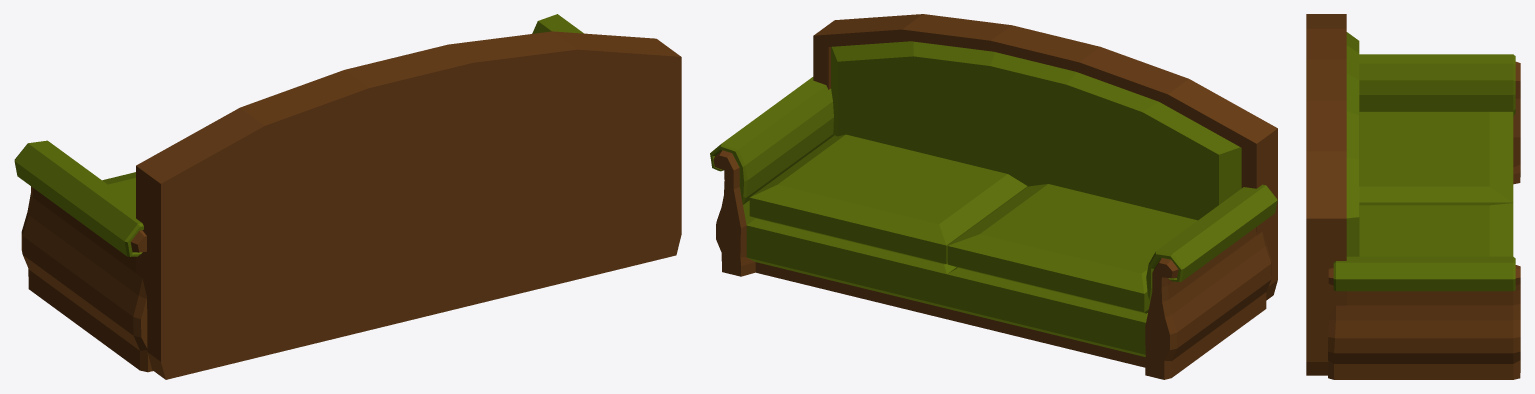
The model's file is castle_town_interior_couch.fbx.
3 renders of one model, left to right at view 1: azimuth 30°, elevation 25°; view 2: azimuth 150°, elevation 25°; view 3: azimuth 270°, elevation 25°, orthographic. The views are drawn at different scales.
Parts seen in each view (by area): view 1: couch; view 2: couch; view 3: couch.
Part boxes in pixels (x1,y1,x2,y2): couch: [14, 14, 681, 379]; couch: [710, 14, 1277, 379]; couch: [1306, 14, 1520, 379].
Size of the model in its own units: 1077 by 1087 by 2601.
